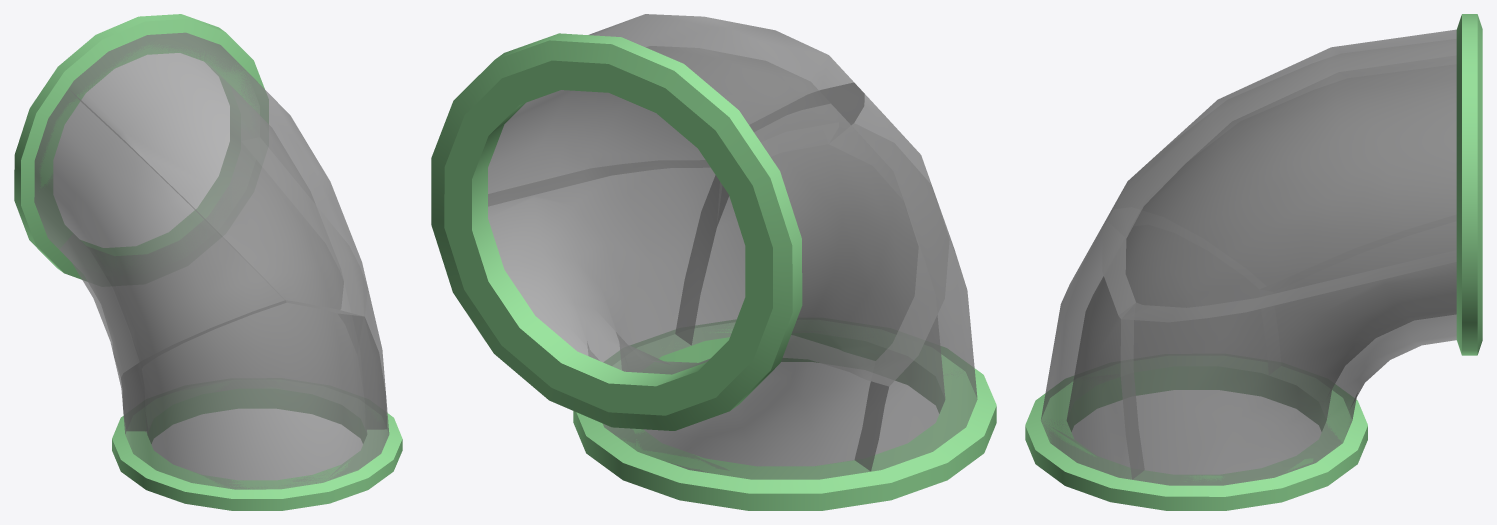
File: Entity_PipeCurveSmall-bkn.FBX
3 renders of one model, left to right at view 1: azimuth 30°, elevation 25°; view 2: azimuth 150°, elevation 25°; view 3: azimuth 270°, elevation 25°, orthographic. The views are drawn at different scales.
Parts seen in each view (by area): view 1: PipeCurveSmall_Part_3, PipeCurveSmall_Part_1, PipeCurveSmall_Part_2, PipeCurveSmall_Part_4, Object003, Object002; view 2: PipeCurveSmall_Part_3, Object003, PipeCurveSmall_Part_2, PipeCurveSmall_Part_4, PipeCurveSmall_Part_1, Object002; view 3: PipeCurveSmall_Part_1, PipeCurveSmall_Part_3, PipeCurveSmall_Part_4, PipeCurveSmall_Part_2, Object002, Object003.
Boxes of the visible parts, box(x1,y1,x2,y2) form: PipeCurveSmall_Part_3: box(60, 142, 386, 430); PipeCurveSmall_Part_1: box(69, 32, 367, 316); PipeCurveSmall_Part_2: box(121, 300, 389, 489); PipeCurveSmall_Part_4: box(34, 88, 285, 377); Object003: box(14, 14, 268, 281); Object002: box(112, 388, 402, 510); PipeCurveSmall_Part_3: box(488, 160, 888, 479); Object003: box(431, 33, 802, 430); PipeCurveSmall_Part_2: box(675, 123, 977, 471); PipeCurveSmall_Part_4: box(749, 82, 949, 386); PipeCurveSmall_Part_1: box(488, 14, 864, 206); Object002: box(573, 320, 996, 510); PipeCurveSmall_Part_1: box(1102, 29, 1456, 322); PipeCurveSmall_Part_3: box(1120, 215, 1456, 485); PipeCurveSmall_Part_4: box(1107, 39, 1456, 287); PipeCurveSmall_Part_2: box(1041, 210, 1266, 479); Object002: box(1025, 366, 1367, 510); Object003: box(1456, 14, 1482, 355).
Size of the model in its own units: 65.06 by 87.96 by 87.96.
